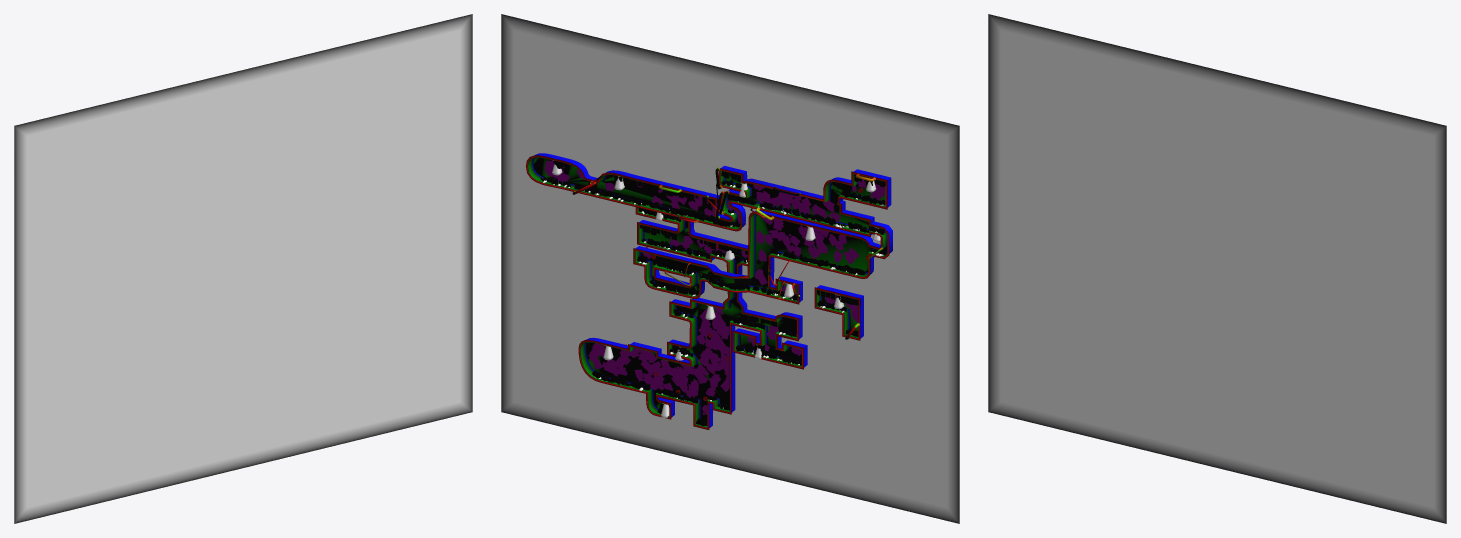
Rendered from lvlmodel_lvl2.fbx.
3 renders of one model, left to right at view 1: azimuth 30°, elevation 25°; view 2: azimuth 150°, elevation 25°; view 3: azimuth 330°, elevation 25°, orthographic.
Visible parts, largest first — view 1: model_geometry; view 2: model_geometry; view 3: model_geometry.
Boxes of the visible parts, x1,y1,x2,y2 form: model_geometry: [14, 14, 472, 523]; model_geometry: [501, 14, 959, 523]; model_geometry: [988, 14, 1446, 523].
Size of what is drawn, in the model's own units: 15465 by 12832 by 1600.
